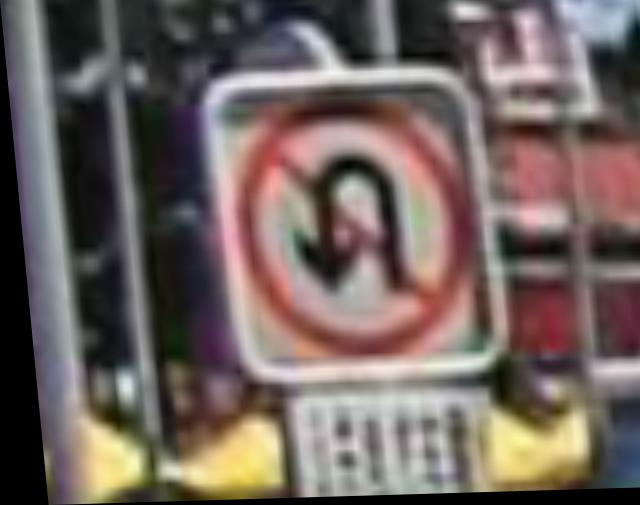not_u_turn_left: (225, 98, 479, 356)
